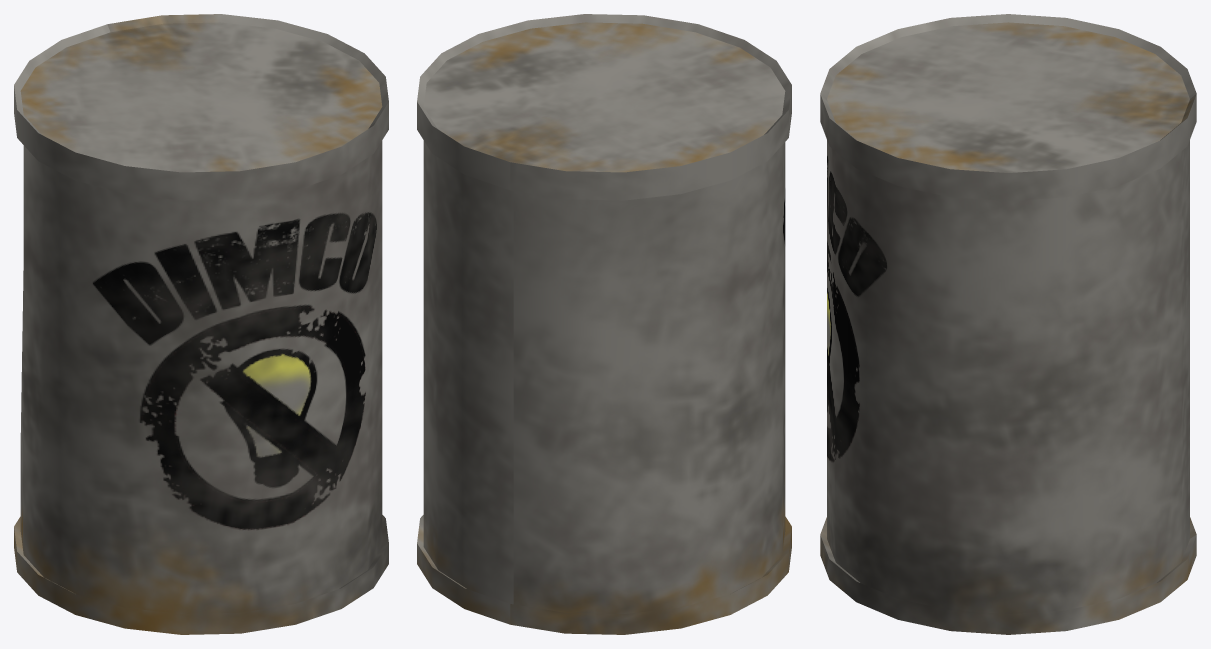
Rendered from Barrel.fbx.
3 renders of one model, left to right at view 1: azimuth 30°, elevation 25°; view 2: azimuth 150°, elevation 25°; view 3: azimuth 270°, elevation 25°, orthographic.
Parts seen in each view (by area): view 1: pCylinder1; view 2: pCylinder1; view 3: pCylinder1.
Boxes of the visible parts, x1,y1,x2,y2 form: pCylinder1: (14,14,388,634); pCylinder1: (417,14,791,634); pCylinder1: (820,14,1196,634).
Bounding box in the file's own units: 21.31 × 28.84 × 21.31.
1 material, 1 textured.
